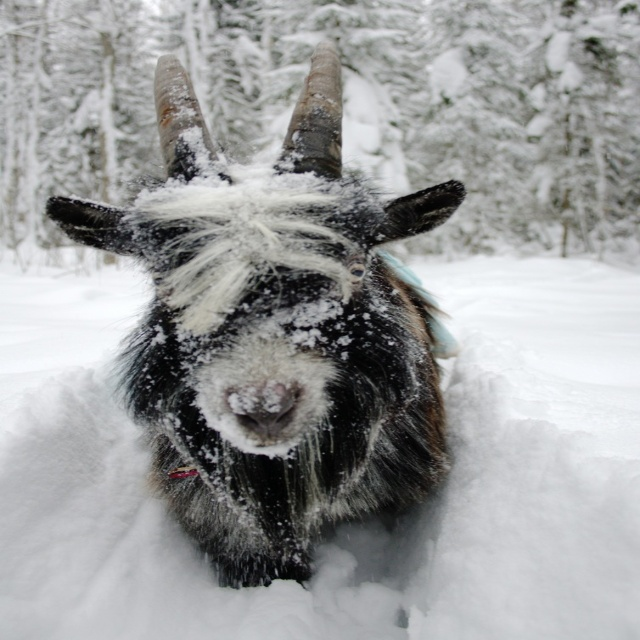Goat: (43, 41, 468, 590)
